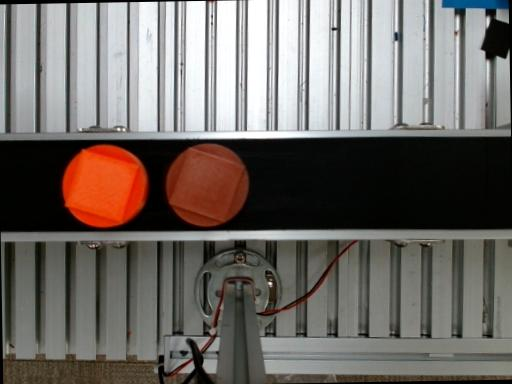Square: (170, 147, 246, 222), (65, 149, 138, 222)
